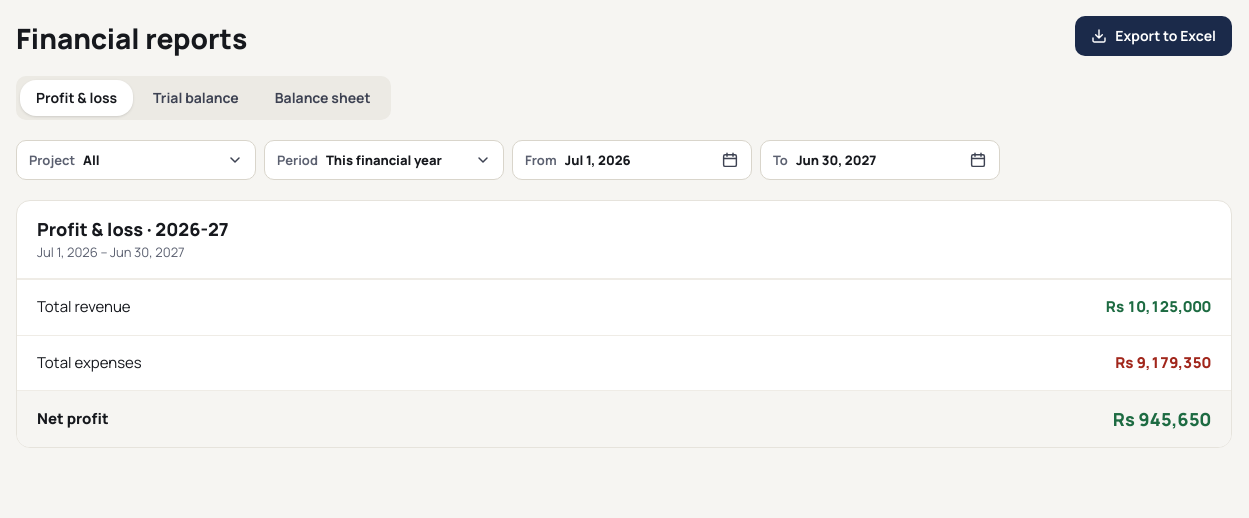
Test case: Financial reports: Trial balance › lists every account with a Total row that adds up and no paging
Expected: the heading "Profit & loss · 2026-27" is shown, [37, 217, 229, 241]
Click the tab "Trial balance" at point(196, 98), box [137, 80, 255, 116]
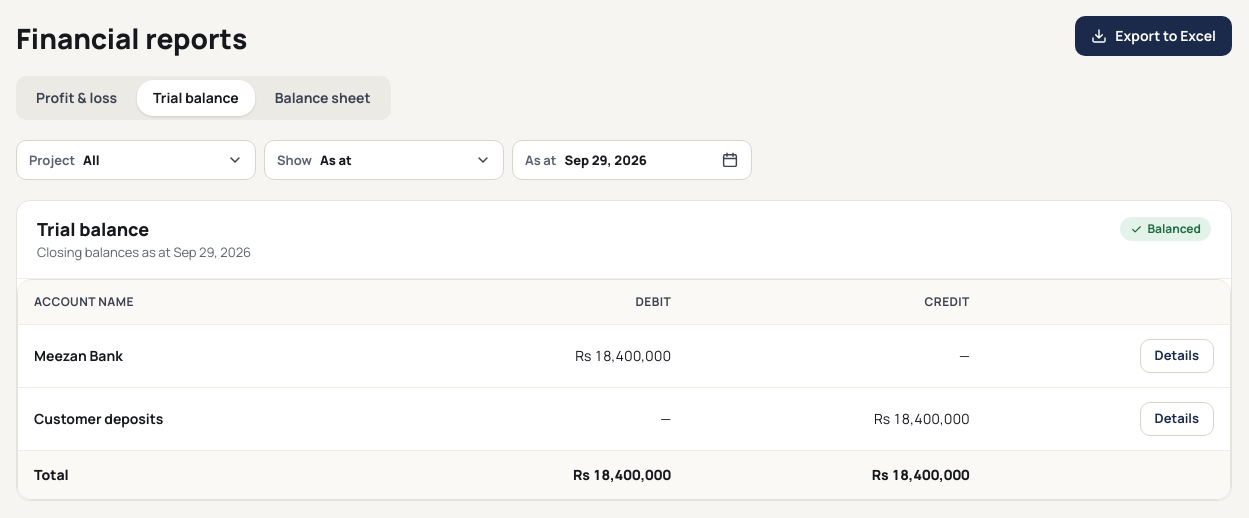
Now the text "Closing balances as at Sep 29, 2026" is shown, box [37, 243, 251, 262]
Now the text "Meezan Bank" is shown, box [34, 346, 123, 365]
Now the text "Customer deposits" is shown, box [34, 409, 163, 428]
